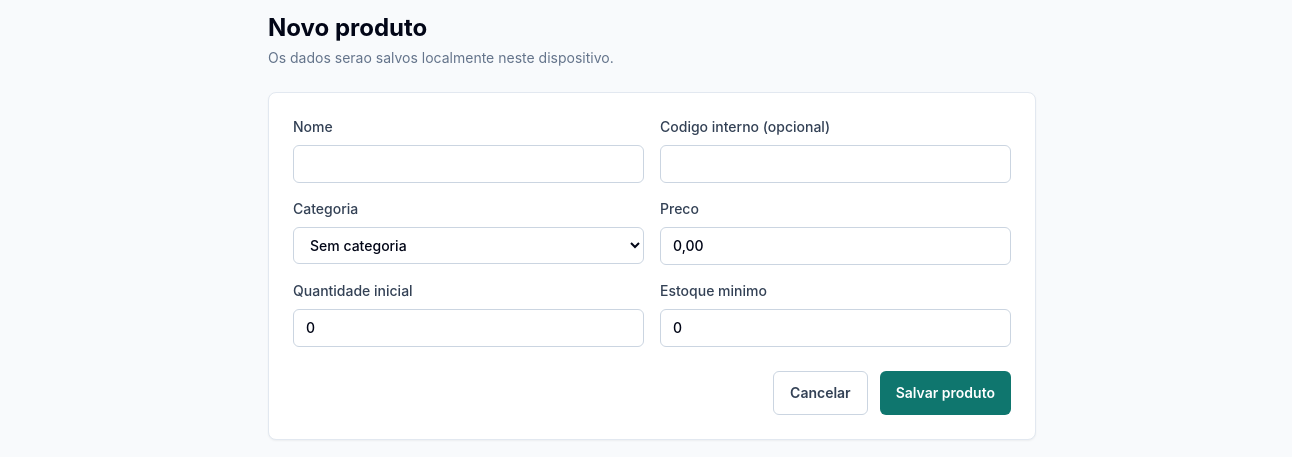
Test: robustez dos formularios › bloqueia duplo envio de produto e informa sucesso somente apos concluir
The image size is (1292, 457).
Type "Cafe" into the field labelled "Nome" at (468, 164), box [293,145,644,183]
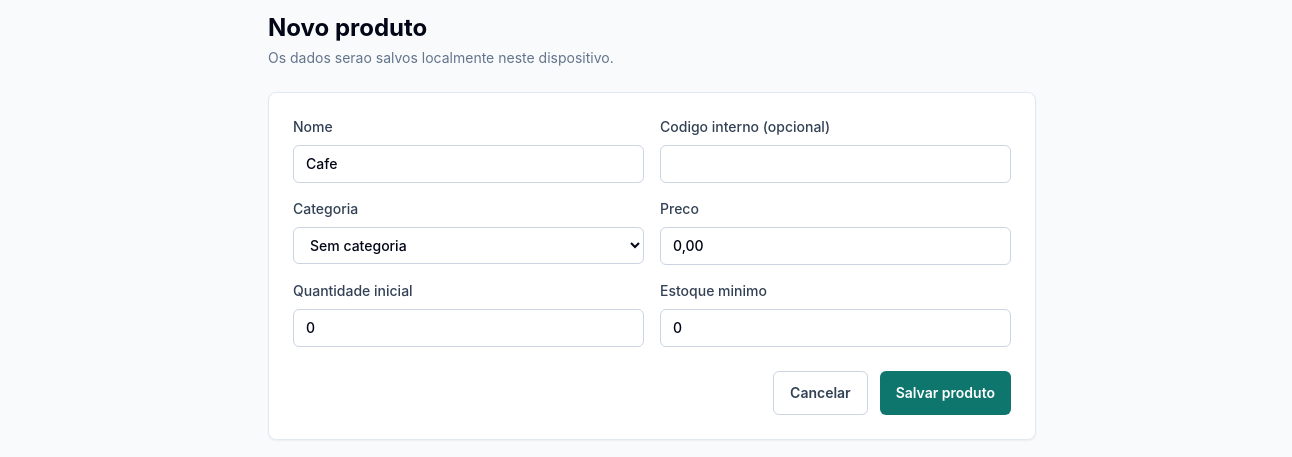
Type "CAFE" into the field labelled "Codigo interno (opcional)" at (836, 164), box [660,145,1011,183]
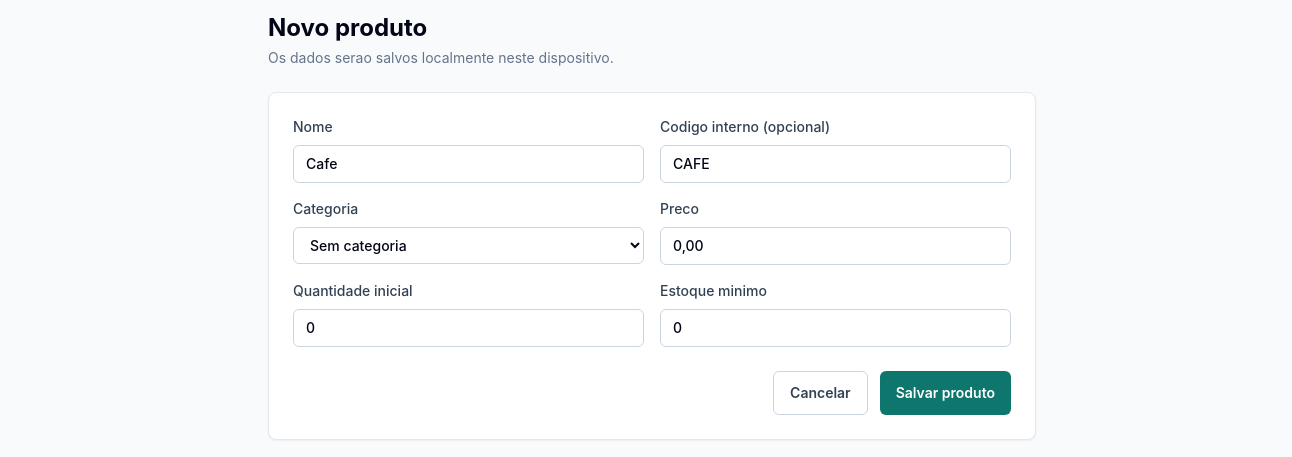
Type "10,00" into the field labelled "Preco" at (836, 246), box [660,227,1011,265]
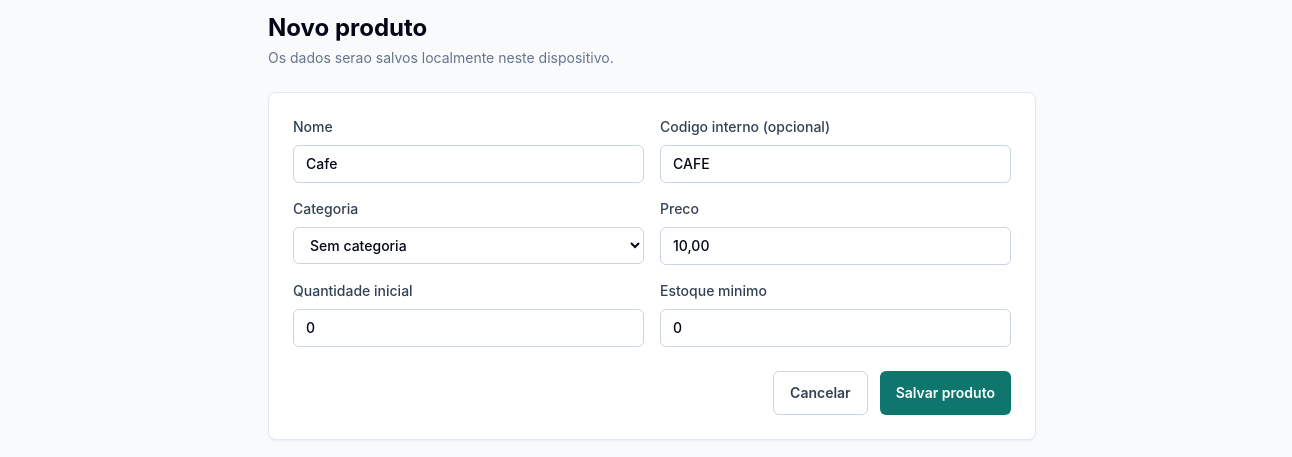
Submit the form named "Salvar produto", box [268,92,1036,440]
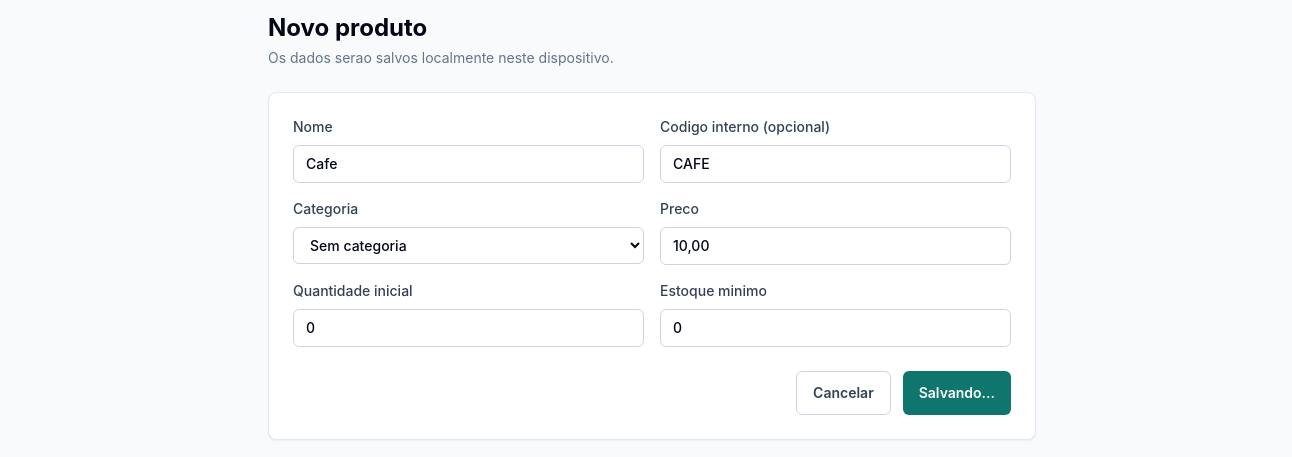
Submit the form named "Salvar produto", box [268,92,1036,440]
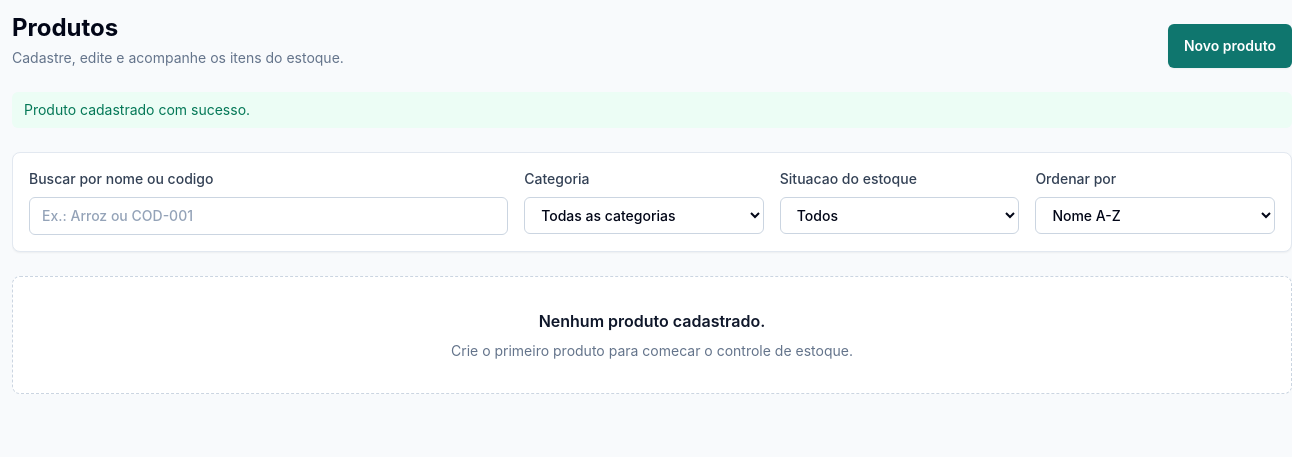
Now the text "Produto cadastrado com sucesso." is shown, box [12,92,1291,128]
